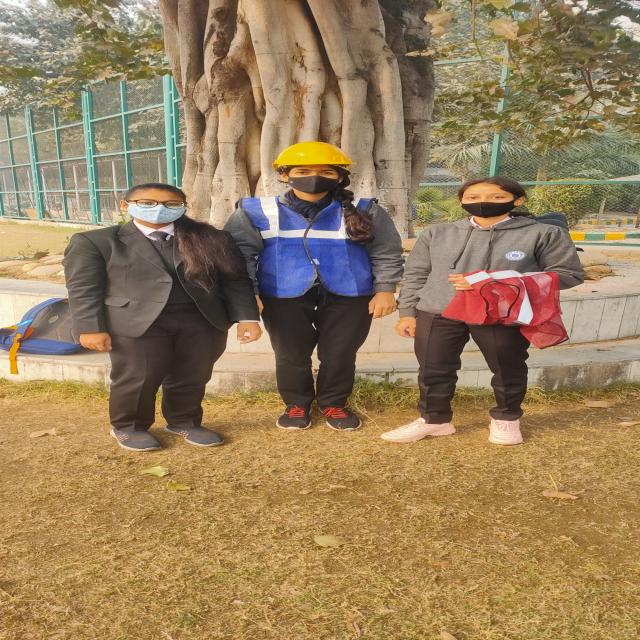safe: (247, 140, 398, 442)
unsafe: (399, 175, 579, 446), (59, 186, 224, 454)
